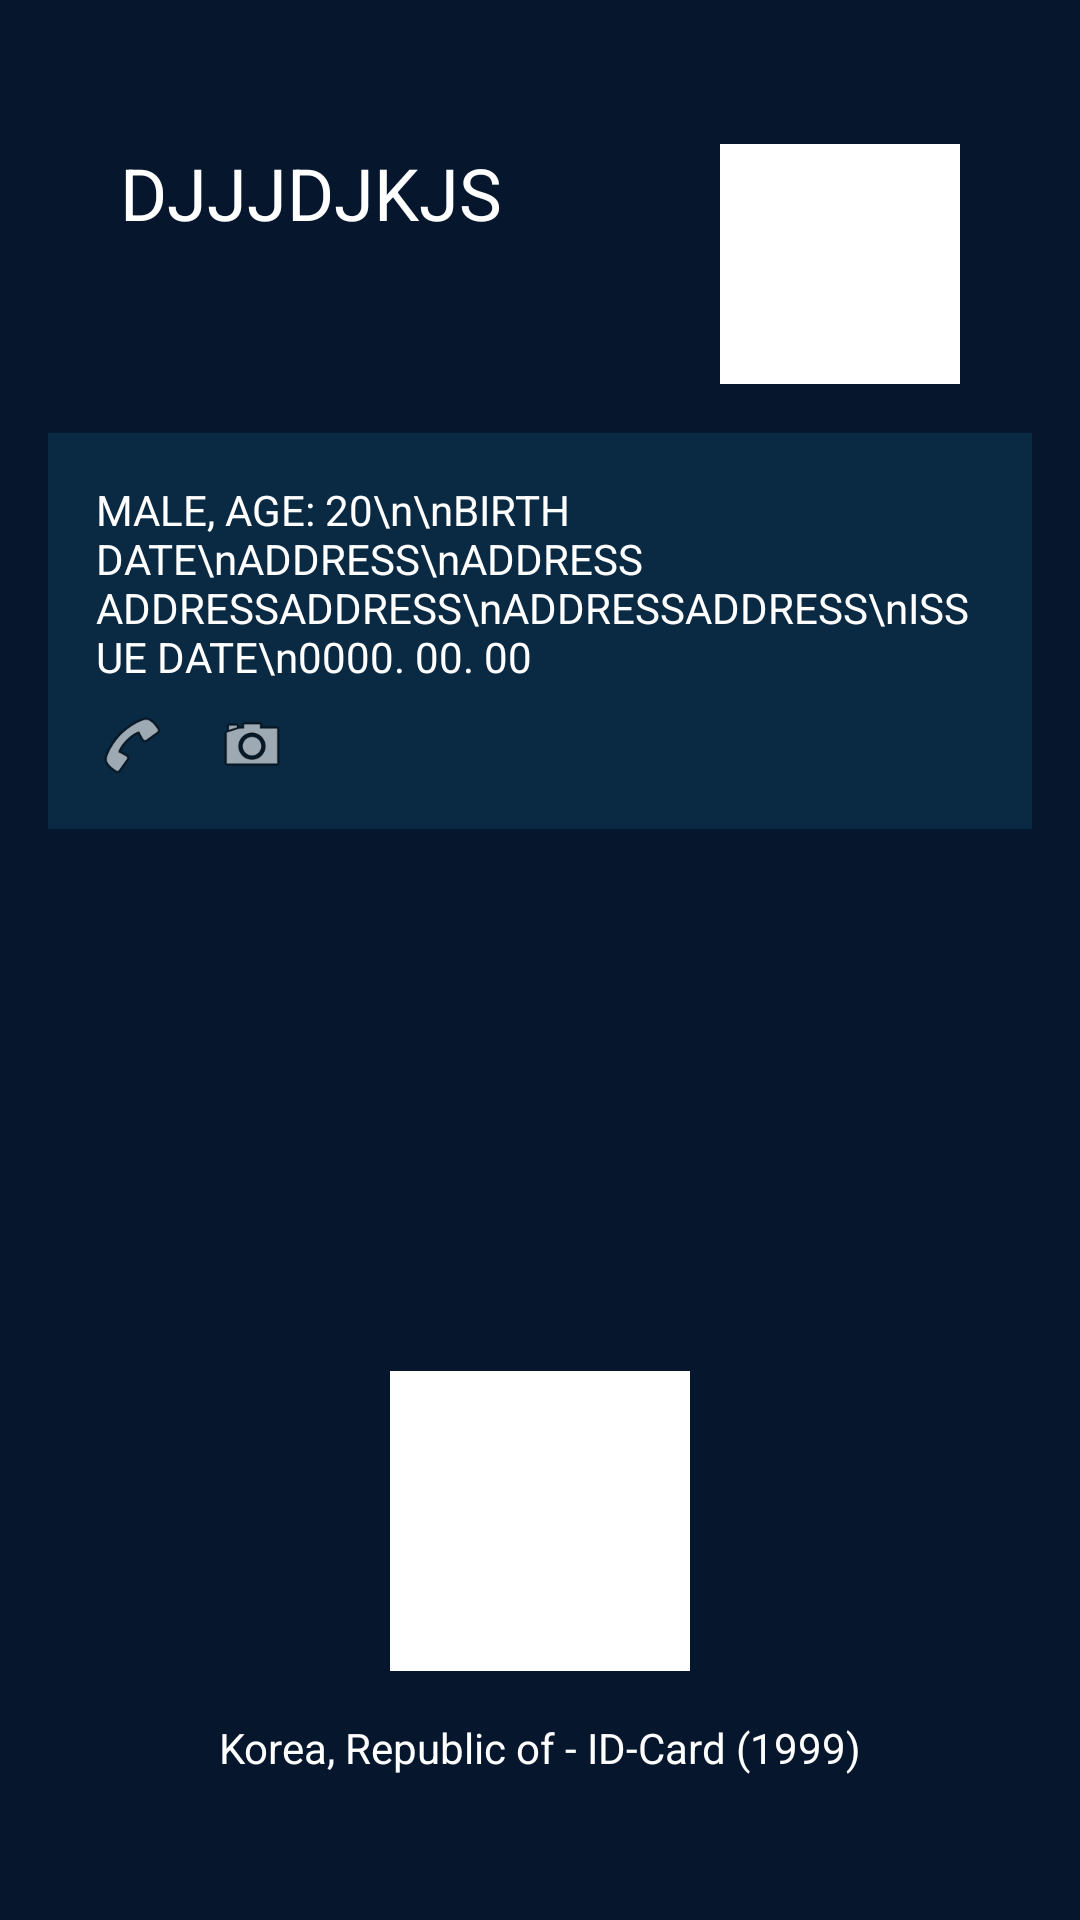

Screen size 1080 x 1920. Icon name, then its box in pixels as [x1,y1,x2,y2]:
call: [105,718,159,772]
camera: [225,723,279,765]
